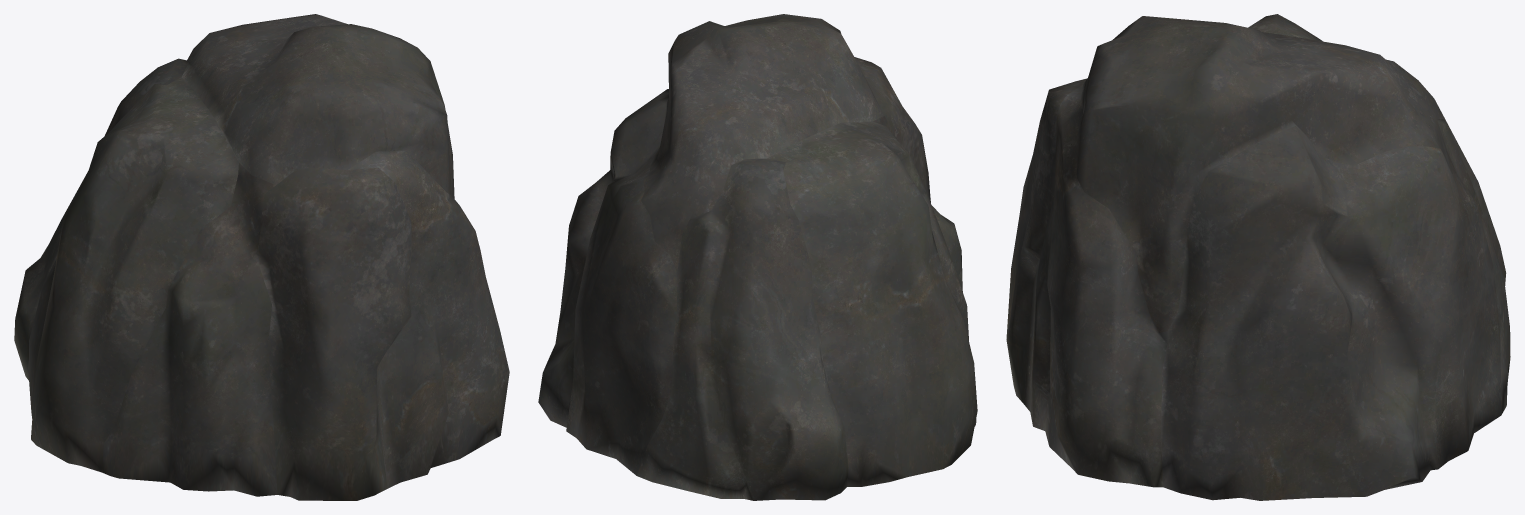
File: Cliff_Wall_Med01.fbx
3 renders of one model, left to right at view 1: azimuth 30°, elevation 25°; view 2: azimuth 150°, elevation 25°; view 3: azimuth 270°, elevation 25°, orthographic. The views are drawn at different scales.
Visible parts, largest first — view 1: SM_CliffWall_Med01.mo; view 2: SM_CliffWall_Med01.mo; view 3: SM_CliffWall_Med01.mo.
Boxes of the visible parts, x1,y1,x2,y2 form: SM_CliffWall_Med01.mo: (14, 14, 509, 500); SM_CliffWall_Med01.mo: (538, 14, 977, 500); SM_CliffWall_Med01.mo: (1006, 14, 1510, 500).
Size of the model in its own units: 1206 by 1048 by 1211.
1 material, 1 textured.
